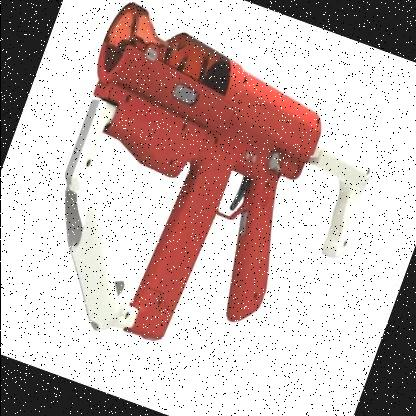rifle: (8, 0, 416, 390)
